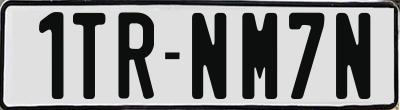1: (36, 9, 66, 100)
7: (286, 11, 321, 101)
M: (241, 12, 276, 99)
N: (190, 12, 229, 100), (335, 10, 372, 100)
R: (118, 11, 156, 104)
T: (73, 13, 108, 101)
